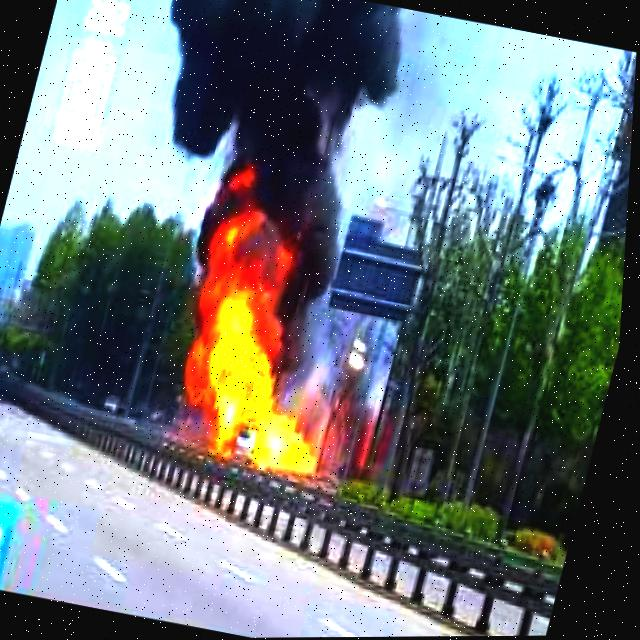Fire: (179, 164, 316, 421), (254, 418, 326, 469), (211, 421, 249, 452)
Smoke: (137, 0, 417, 176)
